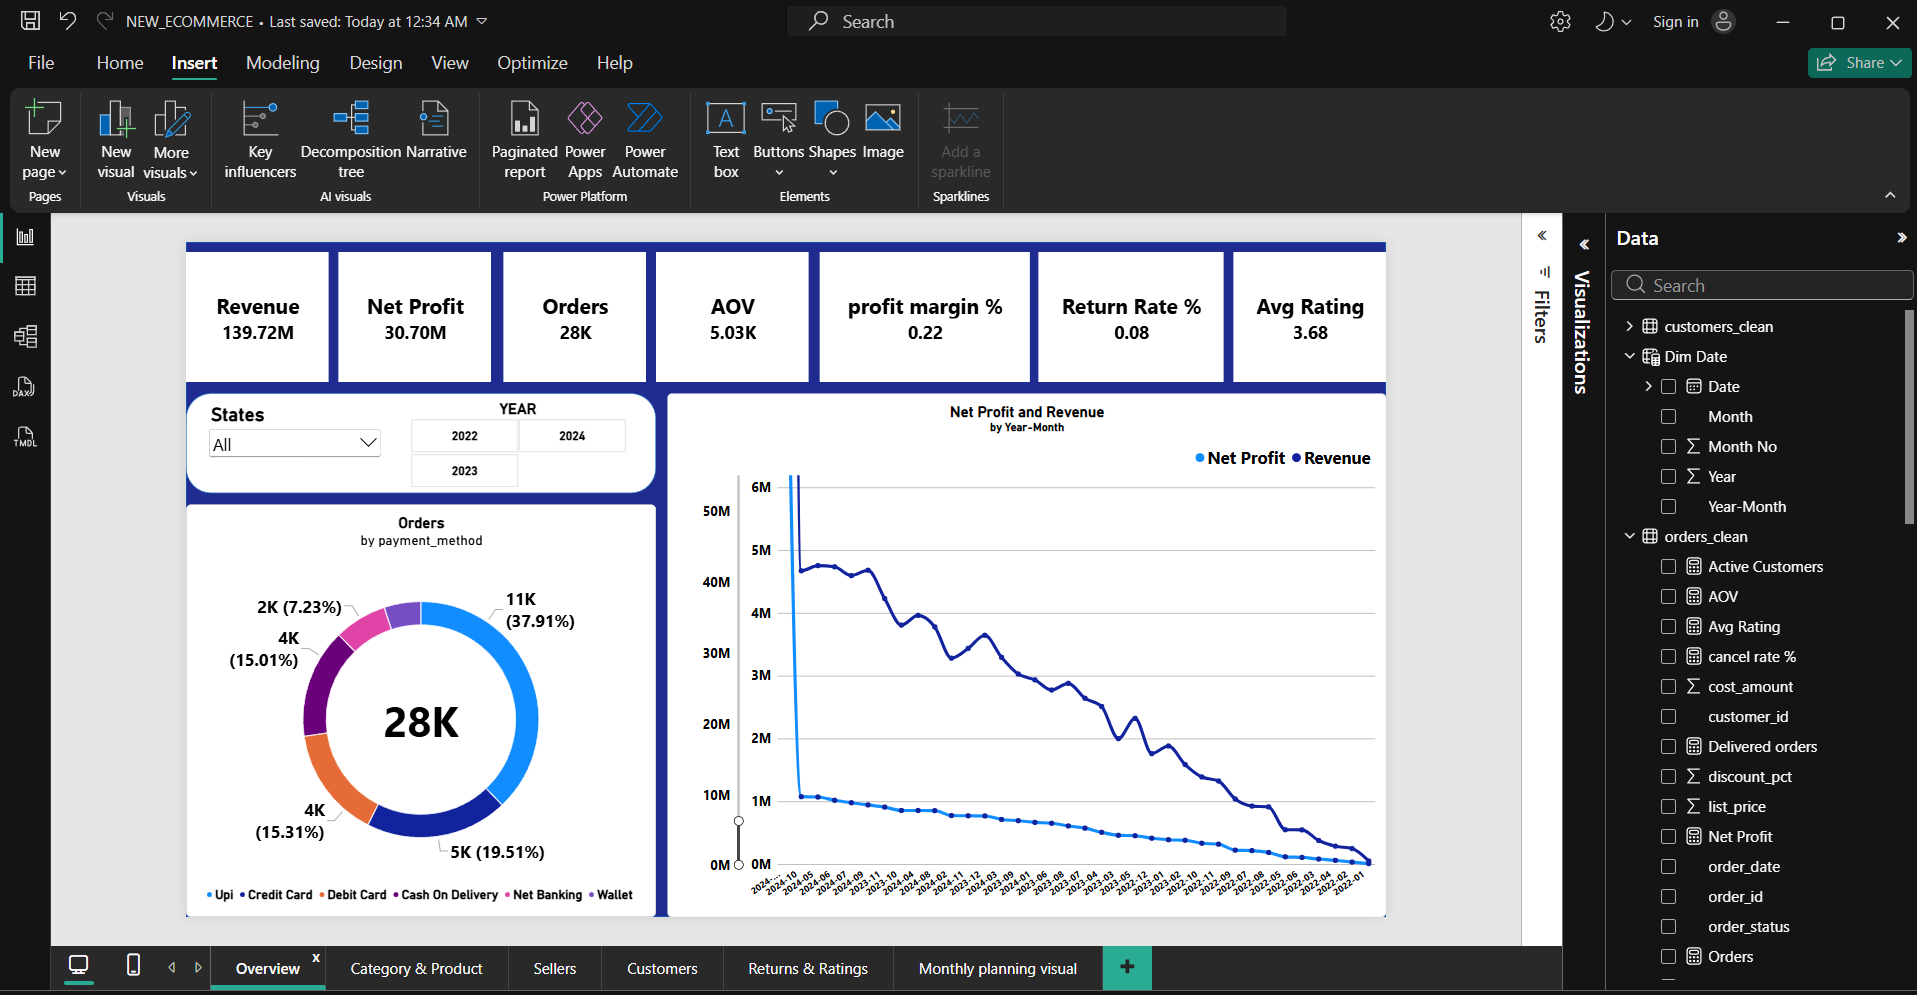

This screenshot's page, from the dashboard's own definition file:
{"tool":"powerbi","page":{"name":"Overview","canvas":[1920,1080],"ordinal":0},"visuals":[{"type":"shape","box":[0,0,1920,1080],"z":0},{"type":"cardVisual","title":"Revenue","fields":{"Data":["orders_clean.Revenue"]},"box":[0,16,228,208],"z":1000},{"type":"cardVisual","title":"Revenue","fields":{"Data":["orders_clean.Net Profit"]},"box":[244,16,244,208],"z":2000},{"type":"cardVisual","title":"Revenue","fields":{"Data":["orders_clean.Orders"]},"box":[508,16,228,208],"z":3000},{"type":"cardVisual","title":"Revenue","fields":{"Data":["orders_clean.AOV"]},"box":[752,16,244,208],"z":4000},{"type":"cardVisual","title":"Revenue","fields":{"Data":["orders_clean.profit margin %"]},"box":[1014,16,336,208],"z":5000},{"type":"cardVisual","title":"Revenue","fields":{"Data":["orders_clean.Return Rate %"]},"box":[1364,16,296,208],"z":6000},{"type":"cardVisual","title":"Revenue","fields":{"Data":["orders_clean.Avg Rating"]},"box":[1676,16,244,208],"z":7000},{"type":"lineChart","fields":{"Category":["Dim Date.Year-Month"],"Y":["orders_clean.Net Profit","orders_clean.Revenue"]},"box":[770,242,1150,838],"z":8000},{"type":"donutChart","fields":{"Y":["orders_clean.Orders"],"Category":["payments_clean.payment_method"]},"box":[0,420,752,660],"z":9000},{"type":"shape","box":[0,242,752,160],"z":10000},{"type":"slicer","title":"YEAR","fields":{"Values":["Dim Date.Year"]},"box":[340,252,382,142],"z":11000},{"type":"slicer","fields":{"Values":["customers_clean.state"]},"box":[32,258,284,130],"z":12000}]}

Visuals, with their boxes on the page's 1920x1080 design canvas (x1, y1, x2, y2). These are canvas units, not pixel positions in the 1917x995 screenshot, which may show the page scaled, cropped or inside an application window:
shape: <box>0,0,1920,1080</box>
"Revenue" cardVisual: <box>0,16,228,224</box>
"Revenue" cardVisual: <box>244,16,488,224</box>
"Revenue" cardVisual: <box>508,16,736,224</box>
"Revenue" cardVisual: <box>752,16,996,224</box>
"Revenue" cardVisual: <box>1014,16,1350,224</box>
"Revenue" cardVisual: <box>1364,16,1660,224</box>
"Revenue" cardVisual: <box>1676,16,1920,224</box>
lineChart - Dim Date.Year-Month x orders_clean.Net Profit: <box>770,242,1920,1080</box>
donutChart - orders_clean.Orders x payments_clean.payment_method: <box>0,420,752,1080</box>
shape: <box>0,242,752,402</box>
"YEAR" slicer: <box>340,252,722,394</box>
slicer - customers_clean.state: <box>32,258,316,388</box>
